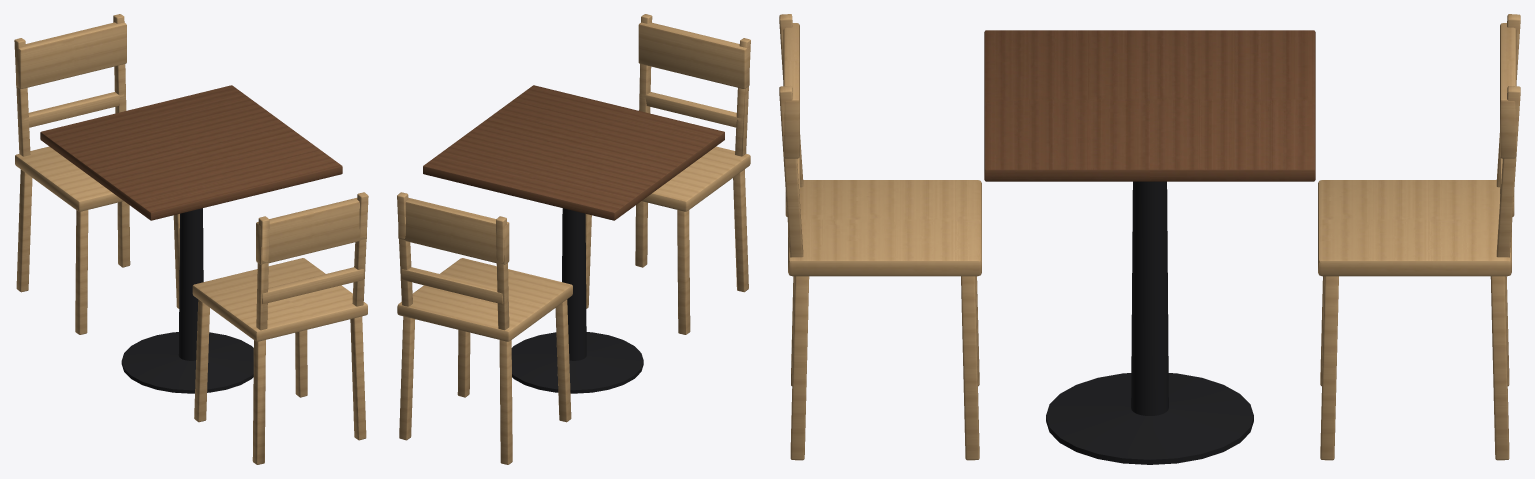
Rendered from table.glb.
The picture shows the model from 3 angles, left to right: view 1: azimuth 30°, elevation 25°; view 2: azimuth 150°, elevation 25°; view 3: azimuth 270°, elevation 25°; orthographic projection. The views are drawn at different scales.
Visible parts, largest first — view 1: Restaurant 2-top table set - Oak chairs, Restaurant 2-top table set - Walnut tables and joinery, Restaurant 2-top table set - Black powder-coated steel; view 2: Restaurant 2-top table set - Oak chairs, Restaurant 2-top table set - Walnut tables and joinery, Restaurant 2-top table set - Black powder-coated steel; view 3: Restaurant 2-top table set - Oak chairs, Restaurant 2-top table set - Walnut tables and joinery, Restaurant 2-top table set - Black powder-coated steel.
Part boxes in pixels (bbox=[...]): Restaurant 2-top table set - Oak chairs: bbox=[14, 14, 368, 464]; Restaurant 2-top table set - Walnut tables and joinery: bbox=[40, 85, 342, 220]; Restaurant 2-top table set - Black powder-coated steel: bbox=[121, 208, 253, 393]; Restaurant 2-top table set - Oak chairs: bbox=[397, 14, 750, 464]; Restaurant 2-top table set - Walnut tables and joinery: bbox=[423, 85, 724, 220]; Restaurant 2-top table set - Black powder-coated steel: bbox=[511, 208, 643, 393]; Restaurant 2-top table set - Oak chairs: bbox=[779, 14, 1520, 460]; Restaurant 2-top table set - Walnut tables and joinery: bbox=[984, 30, 1315, 181]; Restaurant 2-top table set - Black powder-coated steel: bbox=[1046, 181, 1253, 464].
Bounding box in the file's own units: 0.7 × 0.8612 × 1.57.
Materials: 3 (2 with a texture image).
